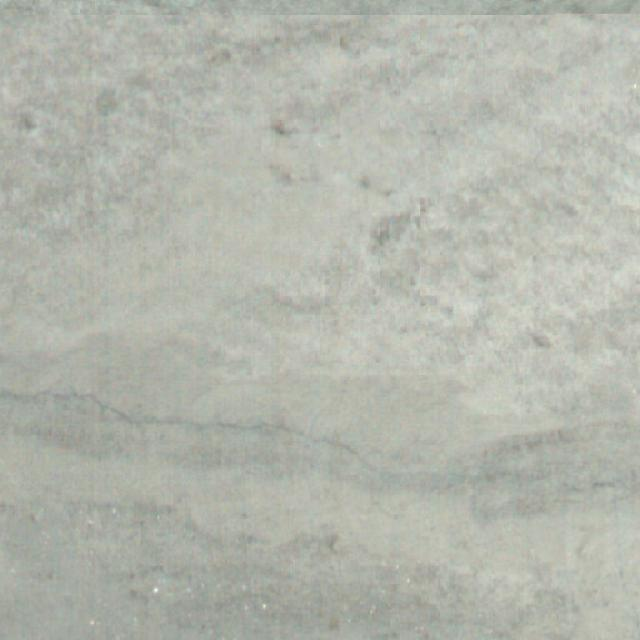Transverse: (2, 354, 640, 521)
